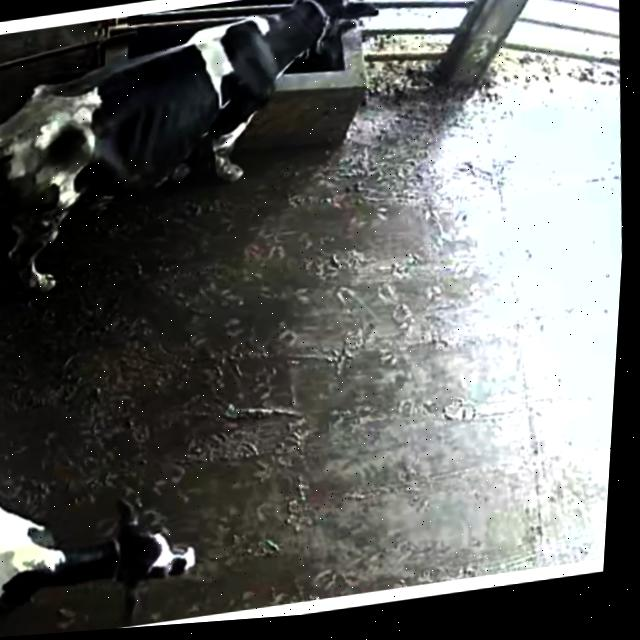drink: (209, 0, 396, 119)
